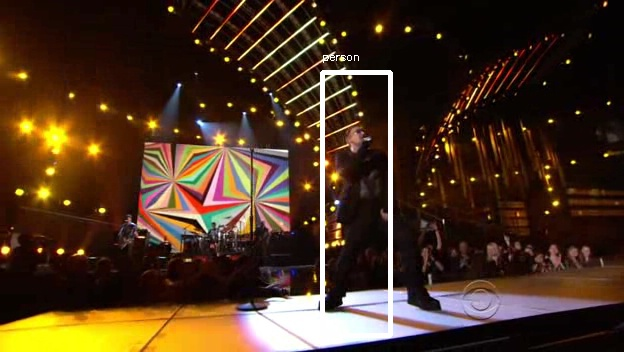person: (332, 124, 400, 241), (329, 124, 397, 241), (335, 124, 403, 241), (332, 121, 400, 238), (332, 127, 400, 244)
target_negative: (12, 133, 318, 284), (538, 107, 617, 306), (499, 134, 530, 244), (25, 141, 416, 146), (574, 132, 618, 151), (493, 340, 598, 345)
